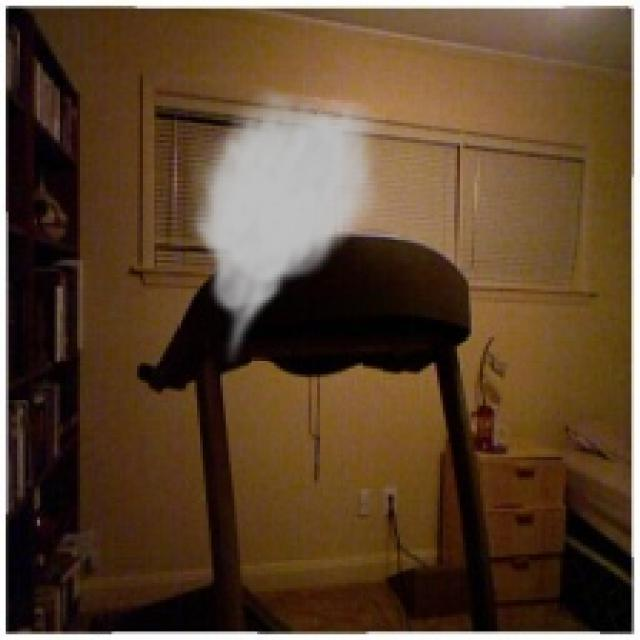smoke: (185, 85, 388, 368)
